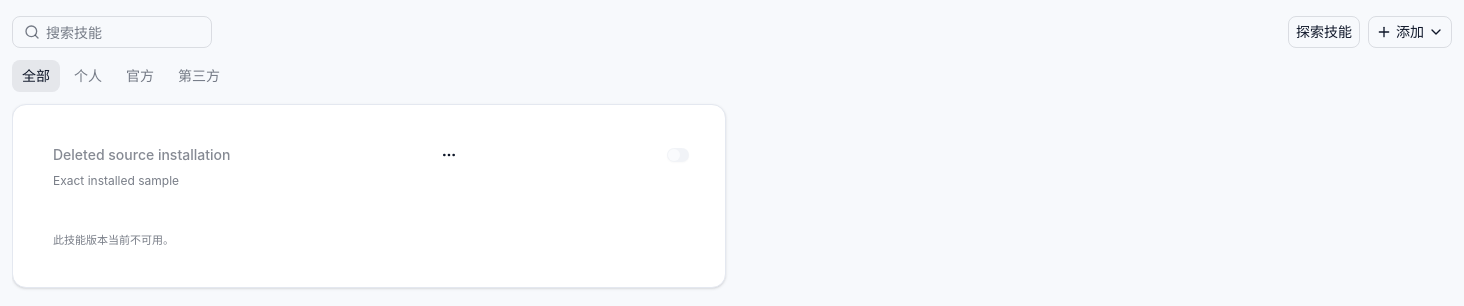
Test case: does not open an old cleanup confirmation after a pending card read and target replacement
Expected: the button "Deleted source installation" is shown, x1=53 y1=137 x2=230 y2=173
Press ArrowDown in the button named "更多技能操作", box x1=433 y1=139 x2=465 y2=171
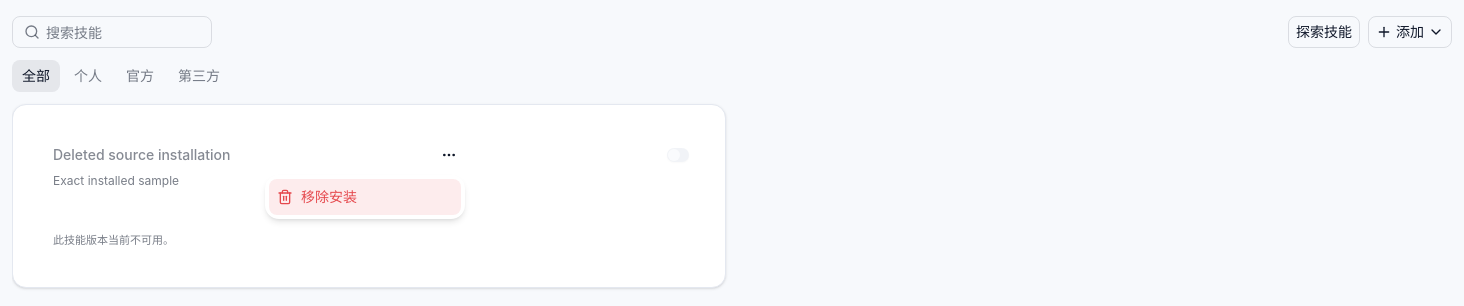
Click the menu item "移除安装" at (365, 197), box x1=269 y1=179 x2=461 y2=215
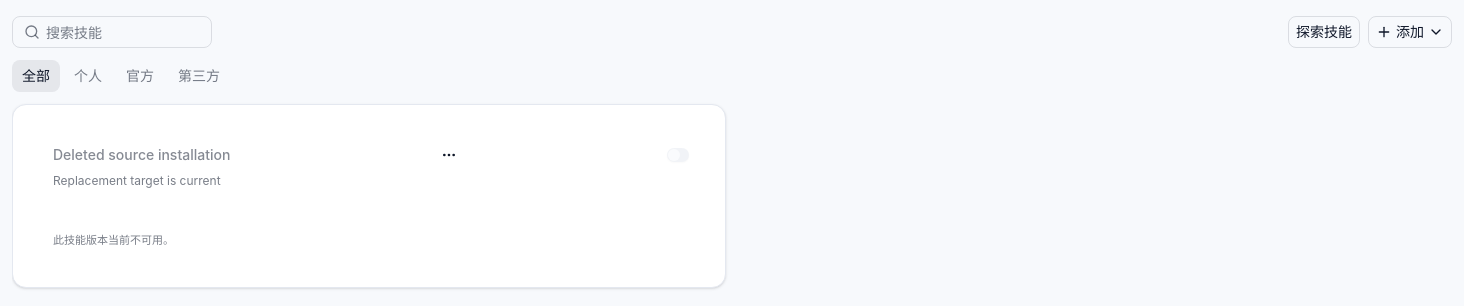
Result: the text "Replacement target is current" is shown at x1=53 y1=173 x2=221 y2=188
Result: the menu item "移除安装" is gone
